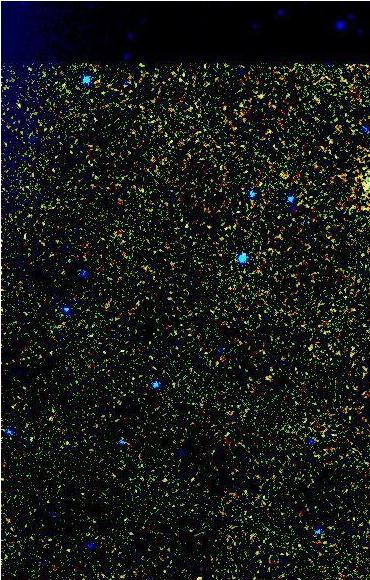star: (245, 78, 275, 108)
